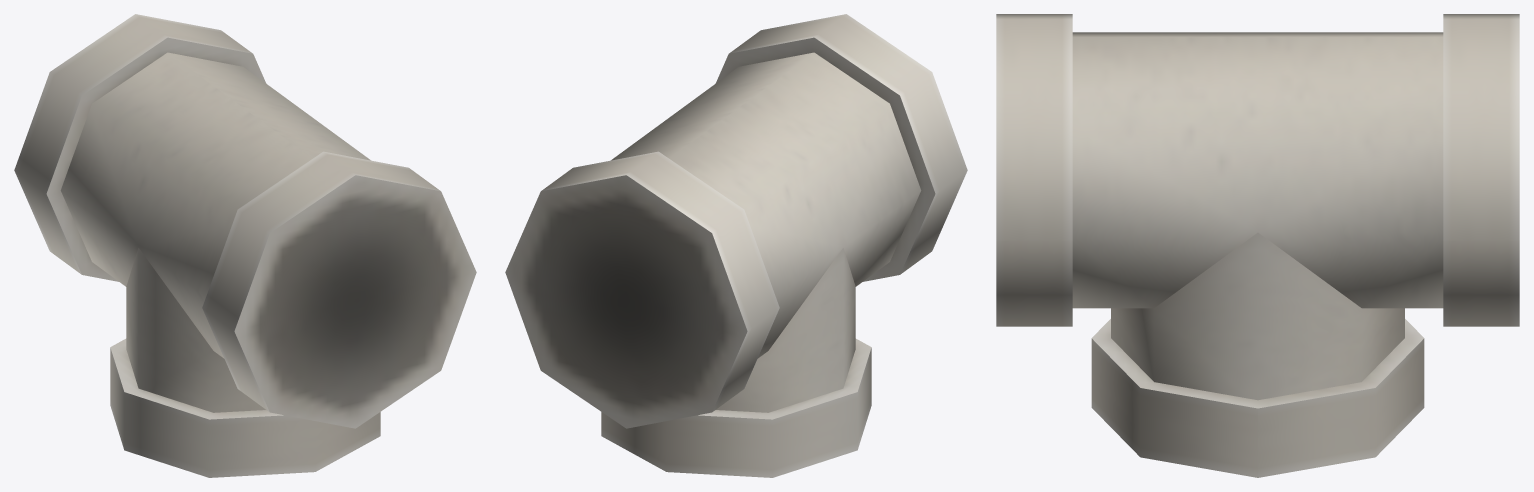
The model's file is set_trough_t_shaped.fbx.
The picture shows the model from 3 angles, left to right: view 1: azimuth 30°, elevation 25°; view 2: azimuth 150°, elevation 25°; view 3: azimuth 270°, elevation 25°; orthographic projection. The views are drawn at different scales.
Visible parts, largest first — view 1: set_trough_t_shaped; view 2: set_trough_t_shaped; view 3: set_trough_t_shaped.
Part boxes in pixels (box(x1,y1,x2,y2)): set_trough_t_shaped: box(14, 14, 476, 477); set_trough_t_shaped: box(505, 14, 967, 477); set_trough_t_shaped: box(996, 14, 1519, 477).
Bounding box in the file's own units: 21.71 × 27.94 × 34.16.
